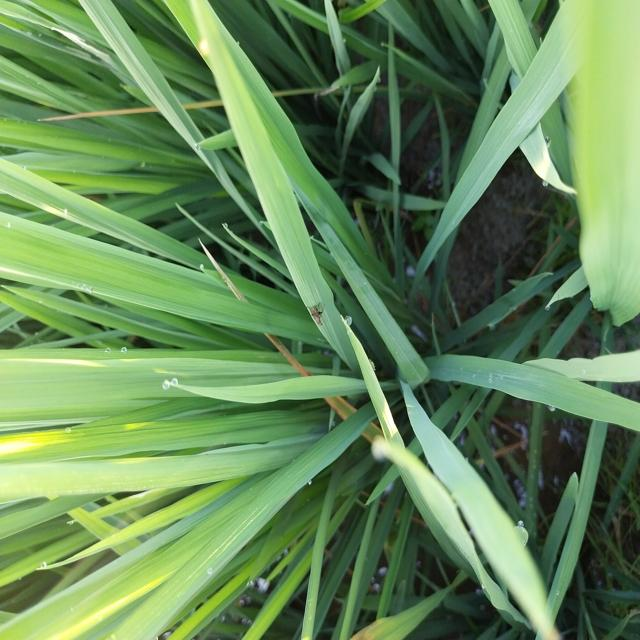healthy: (302, 293, 332, 333)
